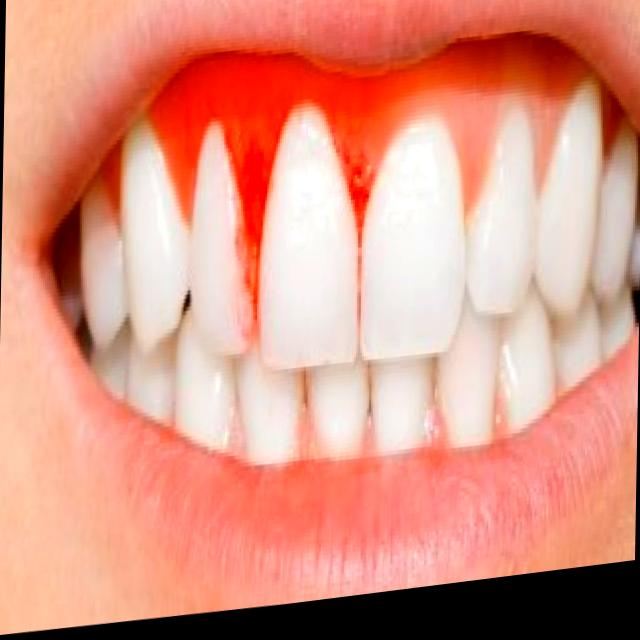gingivitis: (145, 66, 389, 295)
